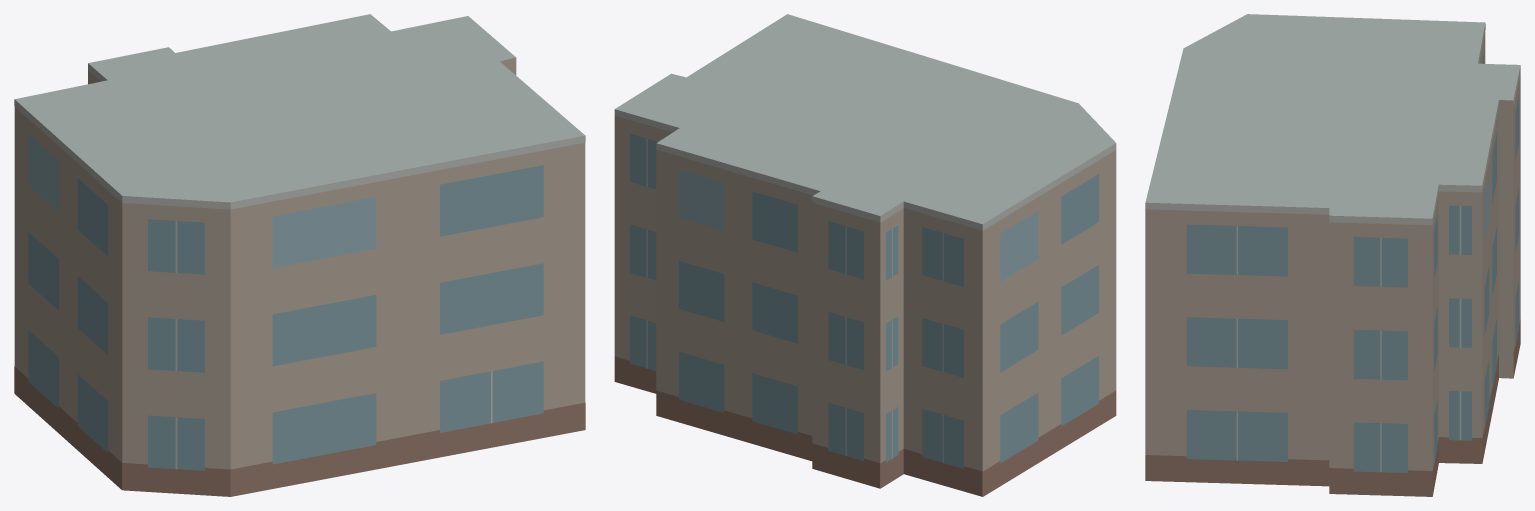
Rendered from survey-upis-33019599.glb.
3 renders of one model, left to right at view 1: azimuth 30°, elevation 25°; view 2: azimuth 150°, elevation 25°; view 3: azimuth 270°, elevation 25°, orthographic. The views are drawn at different scales.
Visible parts, largest first — view 1: survey-upis-33019599.tmp; view 2: survey-upis-33019599.tmp; view 3: survey-upis-33019599.tmp.
Part boxes in pixels (box(x1,y1,x2,y2)): survey-upis-33019599.tmp: box(14, 14, 585, 496); survey-upis-33019599.tmp: box(614, 14, 1116, 496); survey-upis-33019599.tmp: box(1145, 14, 1520, 496).
Size of the model in its own units: 16.11 by 10.2 by 12.48.
